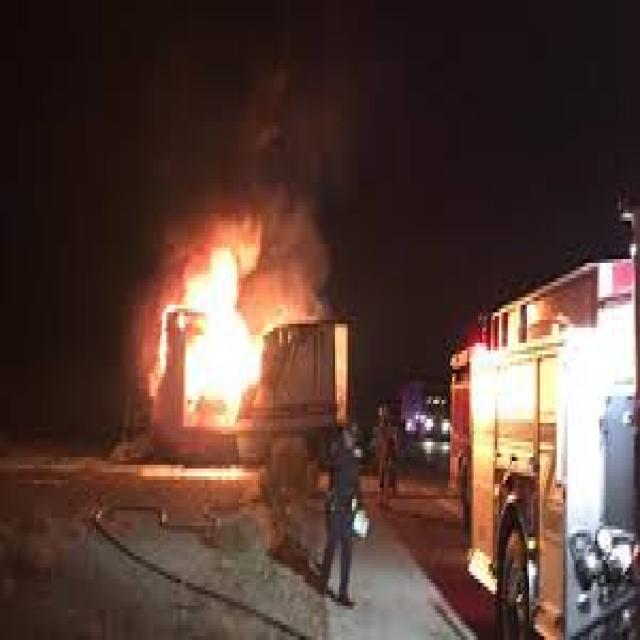fire: (143, 213, 260, 408)
